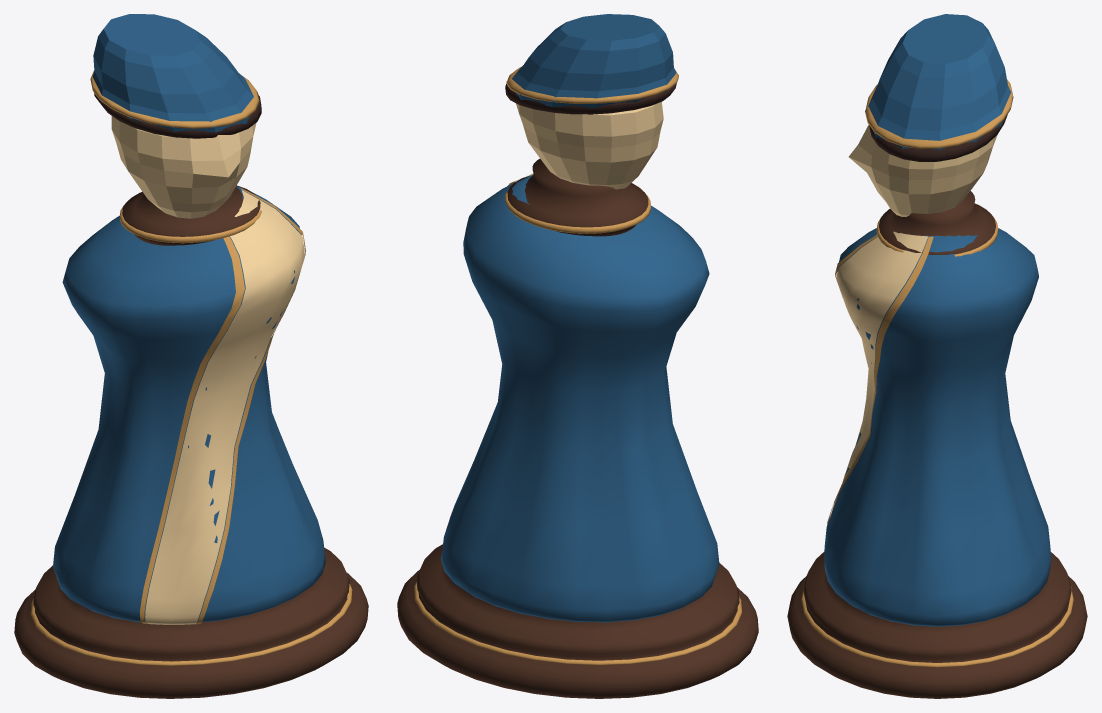
File: court-reader.glb
3 renders of one model, left to right at view 1: azimuth 30°, elevation 25°; view 2: azimuth 150°, elevation 25°; view 3: azimuth 270°, elevation 25°, orthographic. The views are drawn at different scales.
Visible parts, largest first — view 1: Mantle | carved folds, Foot | turned walnut, Stole | ivory inlay, Cap | lacquered crown, Head | carved ivory, Collar | coved walnut, Stole | lower gold edge, Foot | inset brass wire, Stole | upper gold edge, Cap | brass fillet, Cap | inked brim, Collar | brass lip; view 2: Mantle | carved folds, Foot | turned walnut, Cap | lacquered crown, Head | carved ivory, Collar | coved walnut, Foot | inset brass wire, Cap | inked brim, Cap | brass fillet, Collar | brass lip; view 3: Mantle | carved folds, Foot | turned walnut, Cap | lacquered crown, Stole | ivory inlay, Head | carved ivory, Collar | coved walnut, Foot | inset brass wire, Cap | brass fillet, Cap | inked brim, Stole | upper gold edge.
Boxes of the visible parts, bbox=[...] form: Mantle | carved folds: bbox=[53, 186, 325, 622]; Foot | turned walnut: bbox=[14, 547, 368, 698]; Stole | ivory inlay: bbox=[145, 190, 304, 624]; Cap | lacquered crown: bbox=[92, 14, 259, 132]; Head | carved ivory: bbox=[111, 116, 256, 218]; Collar | coved walnut: bbox=[122, 185, 260, 245]; Stole | lower gold edge: bbox=[140, 236, 244, 623]; Foot | inset brass wire: bbox=[30, 584, 352, 665]; Stole | upper gold edge: bbox=[197, 188, 305, 624]; Cap | brass fillet: bbox=[90, 70, 259, 128]; Cap | inked brim: bbox=[94, 93, 261, 138]; Collar | brass lip: bbox=[120, 204, 262, 243]; Mantle | carved folds: bbox=[441, 175, 719, 622]; Foot | turned walnut: bbox=[397, 544, 758, 698]; Cap | lacquered crown: bbox=[507, 14, 676, 108]; Head | carved ivory: bbox=[516, 102, 663, 189]; Collar | coved walnut: bbox=[507, 159, 648, 236]; Foot | inset brass wire: bbox=[414, 581, 741, 665]; Cap | inked brim: bbox=[505, 81, 676, 114]; Cap | brass fillet: bbox=[506, 67, 678, 103]; Collar | brass lip: bbox=[505, 192, 650, 233]; Mantle | carved folds: bbox=[824, 228, 1051, 626]; Foot | turned walnut: bbox=[787, 552, 1087, 698]; Cap | lacquered crown: bbox=[865, 14, 1013, 149]; Stole | ivory inlay: bbox=[831, 231, 928, 513]; Head | carved ivory: bbox=[848, 125, 997, 216]; Collar | coved walnut: bbox=[879, 191, 995, 254]; Foot | inset brass wire: bbox=[801, 586, 1073, 667]; Cap | brass fillet: bbox=[865, 79, 1013, 148]; Cap | inked brim: bbox=[869, 114, 1007, 161]; Stole | upper gold edge: bbox=[827, 236, 933, 523].
Size of the model in its own units: 0.564 by 1.04 by 0.485.
